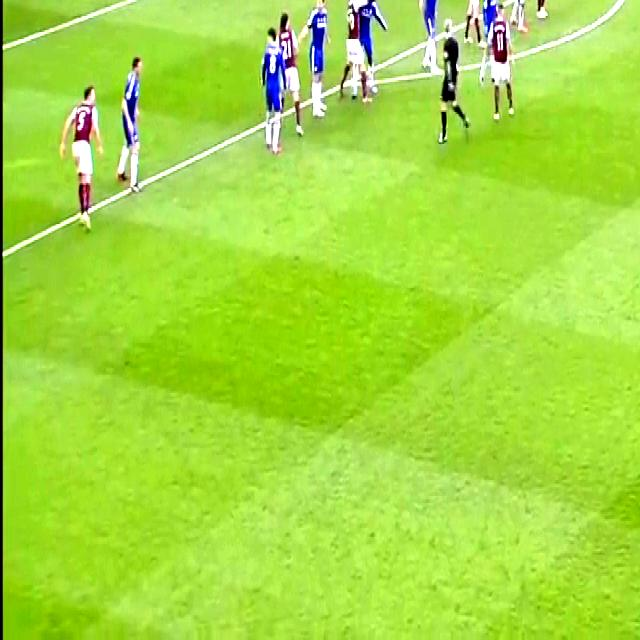referee: (434, 17, 472, 152)
soccer-player: (53, 80, 103, 243), (115, 43, 152, 198), (256, 20, 289, 161), (482, 5, 514, 128), (304, 0, 335, 123), (275, 2, 304, 130), (355, 0, 389, 101), (341, 0, 372, 105), (415, 0, 445, 76), (465, 0, 490, 46), (507, 0, 532, 39), (483, 0, 506, 37), (532, 0, 559, 30)
